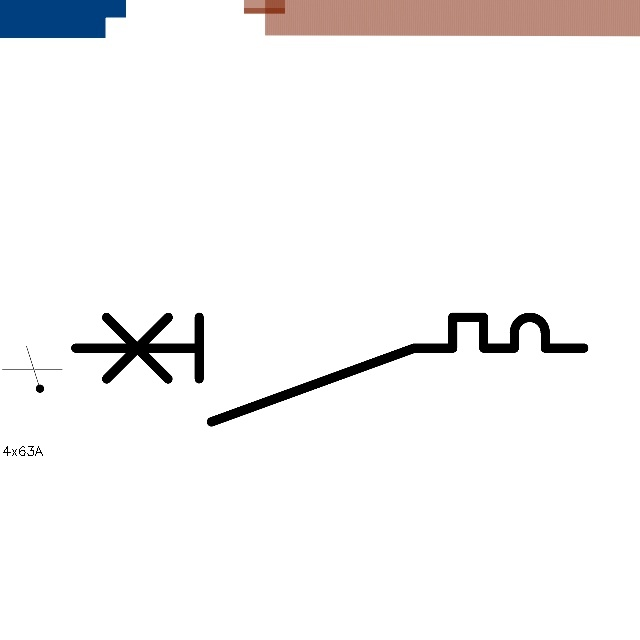interruptor_termomagnetico: (62, 304, 597, 435)
